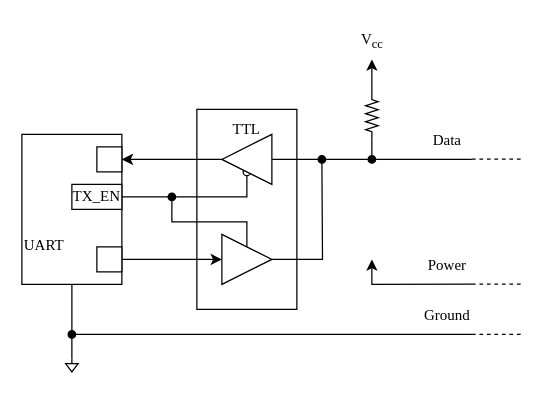
This 545x394 diagram has some shape labels left out. Here are the shapes that lost their labels. From the top down, the centre of each, then its label:
At point 109,159: "RX".
At point 109,259: "TX".
